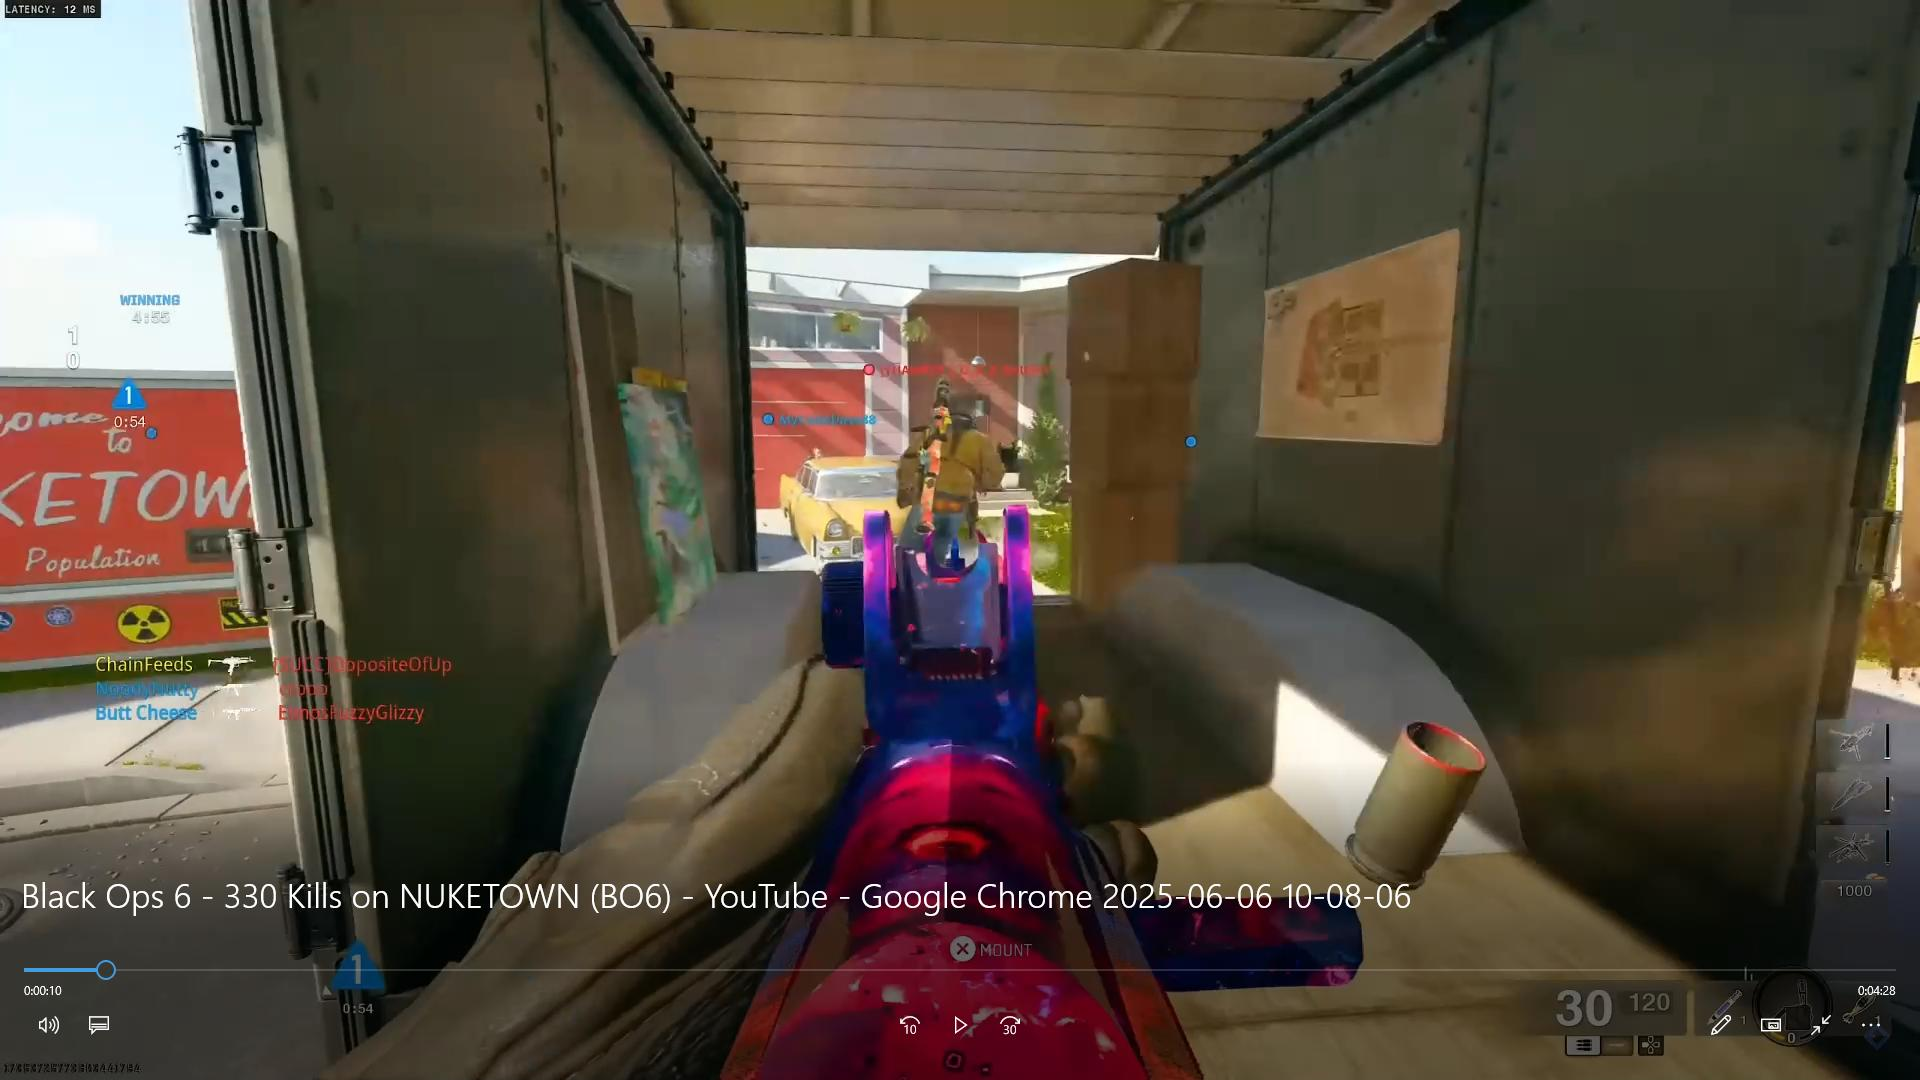Enemy: (861, 352, 1039, 549)
